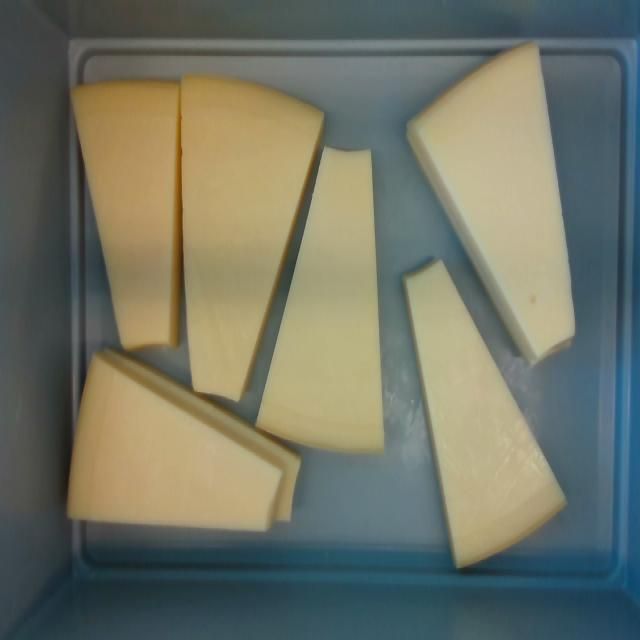cheese: (403, 257, 567, 568), (417, 40, 576, 356), (181, 80, 326, 401), (181, 77, 323, 399), (255, 146, 385, 450), (68, 356, 282, 525), (72, 81, 177, 350)
